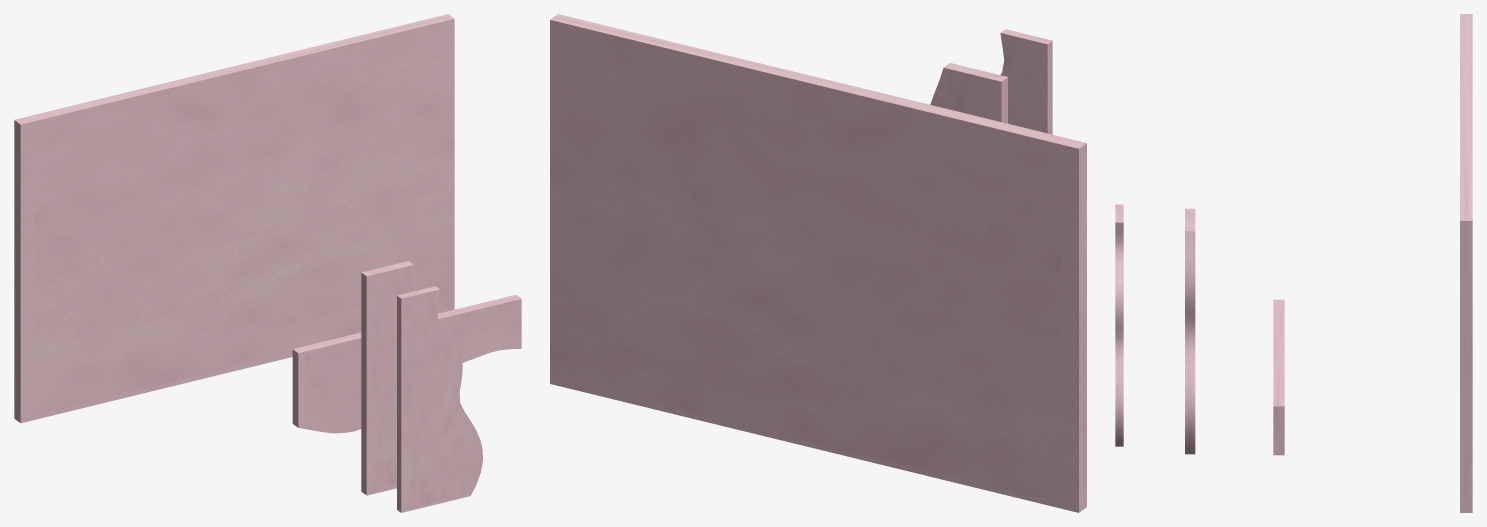
The model's file is changjing2-beiban.fbx.
3 renders of one model, left to right at view 1: azimuth 30°, elevation 25°; view 2: azimuth 150°, elevation 25°; view 3: azimuth 270°, elevation 25°, orthographic. The views are drawn at different scales.
Parts seen in each view (by area): view 1: pCube7, pCube6, pCube4, pCube5; view 2: pCube7, pCube6, pCube5; view 3: pCube7, pCube5, pCube6, pCube4.
Part boxes in pixels (x1,y1,x2,y2): pCube7: (14, 14, 454, 423); pCube6: (397, 286, 482, 512); pCube4: (292, 294, 521, 433); pCube5: (361, 261, 422, 495); pCube7: (550, 14, 1086, 512); pCube6: (1000, 29, 1052, 134); pCube5: (930, 63, 1007, 123); pCube7: (1460, 14, 1472, 512); pCube5: (1185, 208, 1195, 454); pCube6: (1115, 204, 1123, 446); pCube4: (1273, 299, 1284, 455).
Bounding box in the file's own units: 33.76 × 23.66 × 24.64.
Materials: 1 (1 with a texture image).
